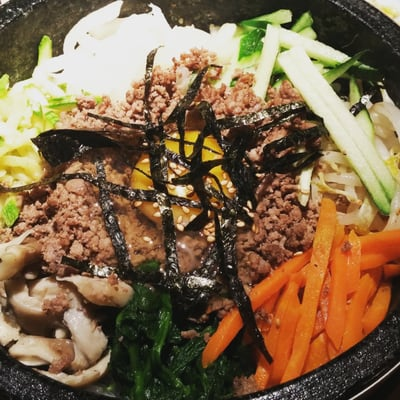pizza: (249, 248, 314, 312), (359, 228, 400, 273)
